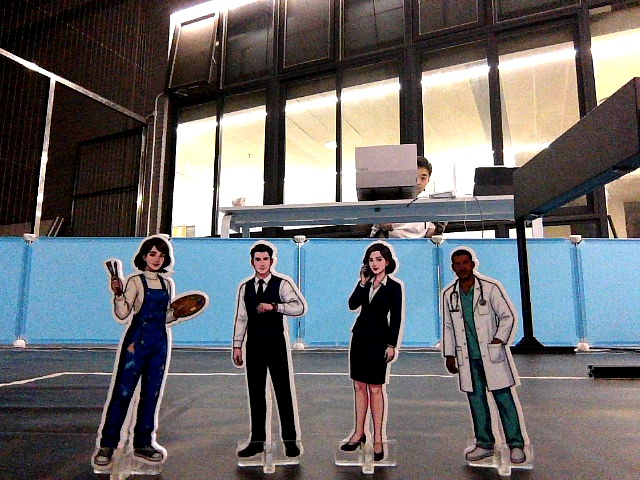community_person: (91, 231, 213, 477), (433, 238, 534, 476), (225, 232, 312, 477), (334, 232, 415, 474)
